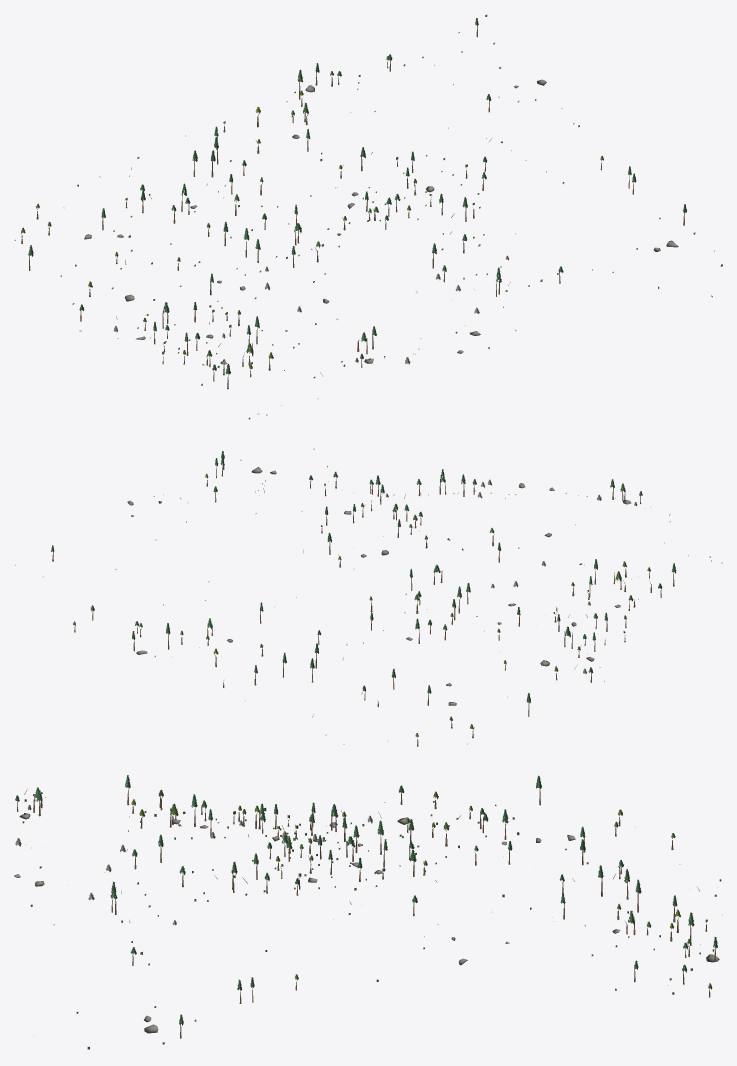
The model's file is arch_land_scatter_c20_19_lod1.glb.
3 renders of one model, top to bottom at view 1: azimuth 30°, elevation 25°; view 2: azimuth 150°, elevation 25°; view 3: azimuth 270°, elevation 25°, orthographic. The views are drawn at different scales.
Parts seen in each view (by area): view 1: arch_land_scatter_c20_19_lod1; view 2: arch_land_scatter_c20_19_lod1; view 3: arch_land_scatter_c20_19_lod1.
Boxes of the visible parts, bbox=[...] form: arch_land_scatter_c20_19_lod1: bbox=[14, 14, 722, 419]; arch_land_scatter_c20_19_lod1: bbox=[15, 448, 722, 746]; arch_land_scatter_c20_19_lod1: bbox=[14, 775, 722, 1049].
Bounding box in the file's own units: 255 × 58.53 × 256.
